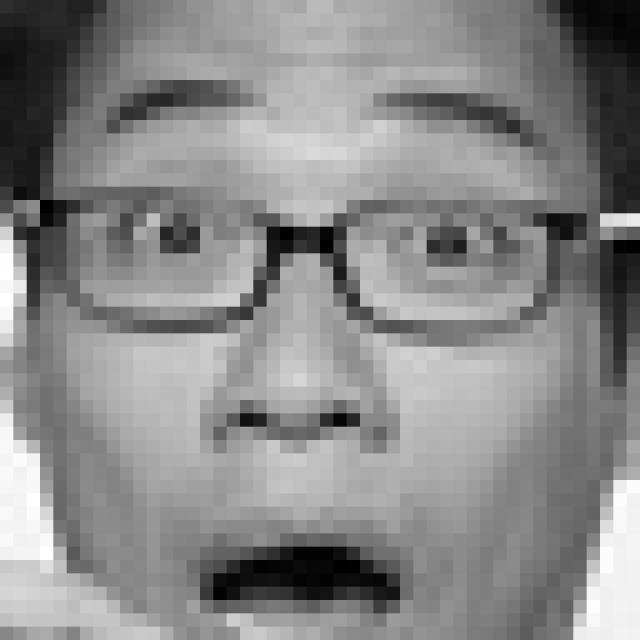surprise: (96, 84, 548, 640)
